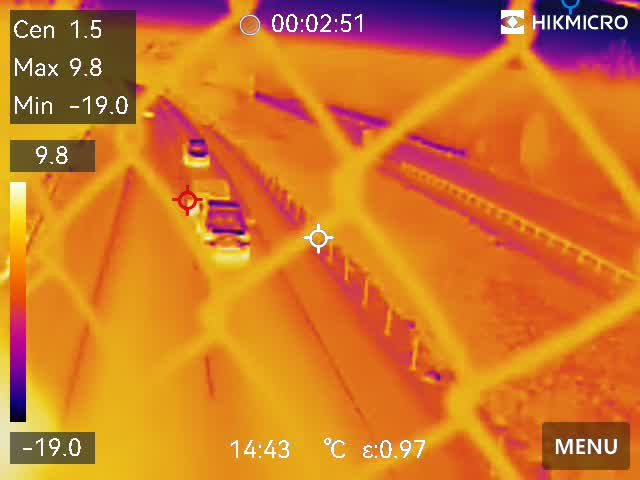vehicle: (197, 200, 253, 260), (178, 133, 219, 172)
